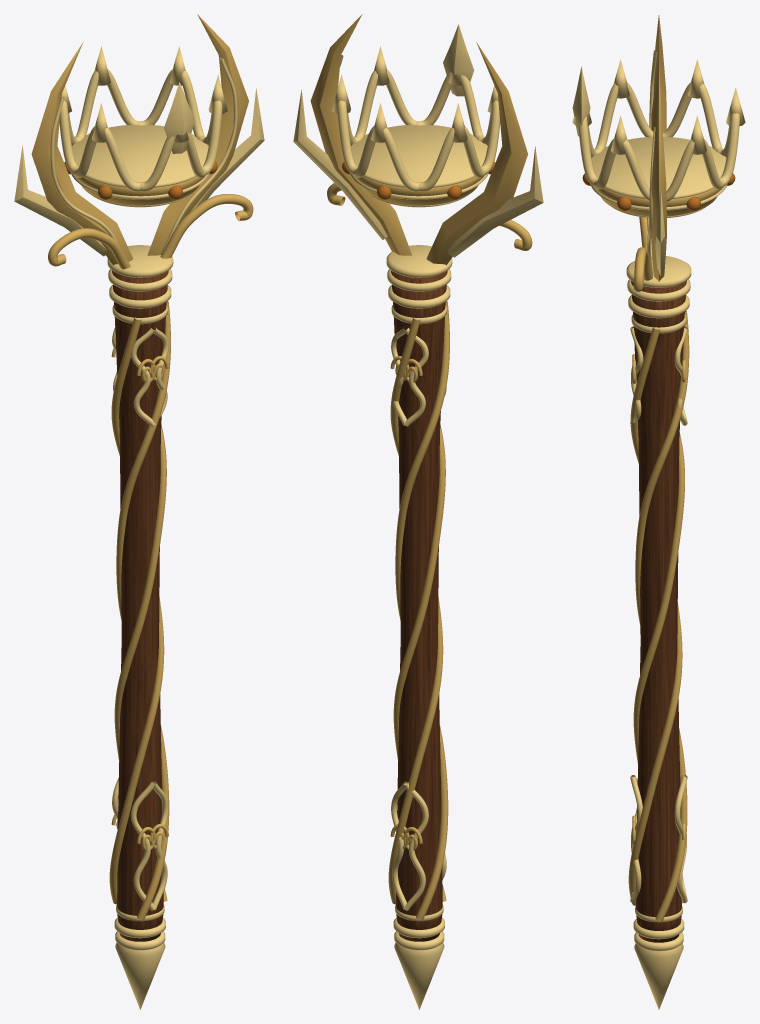
Rendered from sceptre_royal_bois_dore.glb.
The picture shows the model from 3 angles, left to right: view 1: azimuth 30°, elevation 25°; view 2: azimuth 150°, elevation 25°; view 3: azimuth 270°, elevation 25°; orthographic projection.
Parts seen in each view (by area): view 1: Manche bois allongé, Bord perlé.002, Grande corne royale, Grande corne royale.001, Liane dorée hélicoïdale.001, Liane dorée hélicoïdale.002, Liane dorée hélicoïdale, Pointe dorée, Griffe extérieure, Volute de garde.001, Bandeau de couronne, Arche ajourée de couronne.005 (+16 smaller); view 2: Manche bois allongé, Bord perlé.002, Grande corne royale, Grande corne royale.001, Liane dorée hélicoïdale.001, Liane dorée hélicoïdale, Liane dorée hélicoïdale.002, Griffe extérieure, Griffe extérieure.001, Pointe dorée, Bandeau de couronne, Arche ajourée de couronne.003 (+12 smaller); view 3: Manche bois allongé, Bord perlé.002, Liane dorée hélicoïdale, Liane dorée hélicoïdale.002, Liane dorée hélicoïdale.001, Grande corne royale.001, Pointe dorée, Arche ajourée de couronne.001, Arche ajourée de couronne.002, Bandeau de couronne, Arche ajourée de couronne, Arche ajourée de couronne.004 (+15 smaller).
Part boxes in pixels (left/top/right/bottom): Manche bois allongé: left=112, top=270, right=168, bottom=941; Bord perlé.002: left=72, top=125, right=208, bottom=187; Grande corne royale: left=31, top=42, right=132, bottom=265; Grande corne royale.001: left=147, top=14, right=248, bottom=255; Liane dorée hélicoïdale.001: left=109, top=317, right=164, bottom=904; Liane dorée hélicoïdale.002: left=116, top=301, right=170, bottom=920; Liane dorée hélicoïdale: left=114, top=425, right=167, bottom=901; Pointe dorée: left=115, top=942, right=165, bottom=1009; Griffe extérieure: left=14, top=145, right=106, bottom=256; Volute de garde.001: left=160, top=194, right=253, bottom=258; Bandeau de couronne: left=75, top=176, right=204, bottom=205; Arche ajourée de couronne.005: left=105, top=127, right=175, bottom=191; Manche bois allongé: left=391, top=270, right=447, bottom=941; Bord perlé.002: left=351, top=125, right=487, bottom=187; Grande corne royale: left=426, top=42, right=527, bottom=265; Grande corne royale.001: left=310, top=14, right=411, bottom=255; Liane dorée hélicoïdale.001: left=395, top=301, right=449, bottom=920; Liane dorée hélicoïdale: left=388, top=317, right=443, bottom=904; Liane dorée hélicoïdale.002: left=393, top=425, right=446, bottom=901; Griffe extérieure: left=447, top=146, right=543, bottom=257; Griffe extérieure.001: left=293, top=90, right=387, bottom=239; Pointe dorée: left=394, top=942, right=444, bottom=1009; Bandeau de couronne: left=354, top=176, right=483, bottom=205; Arche ajourée de couronne.003: left=383, top=127, right=454, bottom=191; Manche bois allongé: left=631, top=281, right=686, bottom=942; Bord perlé.002: left=591, top=137, right=726, bottom=199; Liane dorée hélicoïdale: left=635, top=311, right=689, bottom=921; Liane dorée hélicoïdale.002: left=628, top=327, right=682, bottom=905; Liane dorée hélicoïdale.001: left=633, top=433, right=684, bottom=903; Grande corne royale.001: left=651, top=71, right=666, bottom=281; Pointe dorée: left=634, top=943, right=683, bottom=1009; Arche ajourée de couronne.001: left=623, top=139, right=694, bottom=201; Arche ajourée de couronne.002: left=702, top=113, right=739, bottom=189; Bandeau de couronne: left=595, top=187, right=722, bottom=216; Arche ajourée de couronne: left=578, top=116, right=615, bottom=189; Arche ajourée de couronne.004: left=626, top=82, right=691, bottom=137.
Size of the model in its own units: 1.67 by 6.27 by 1.02.
Materials: 4 (1 with a texture image).
